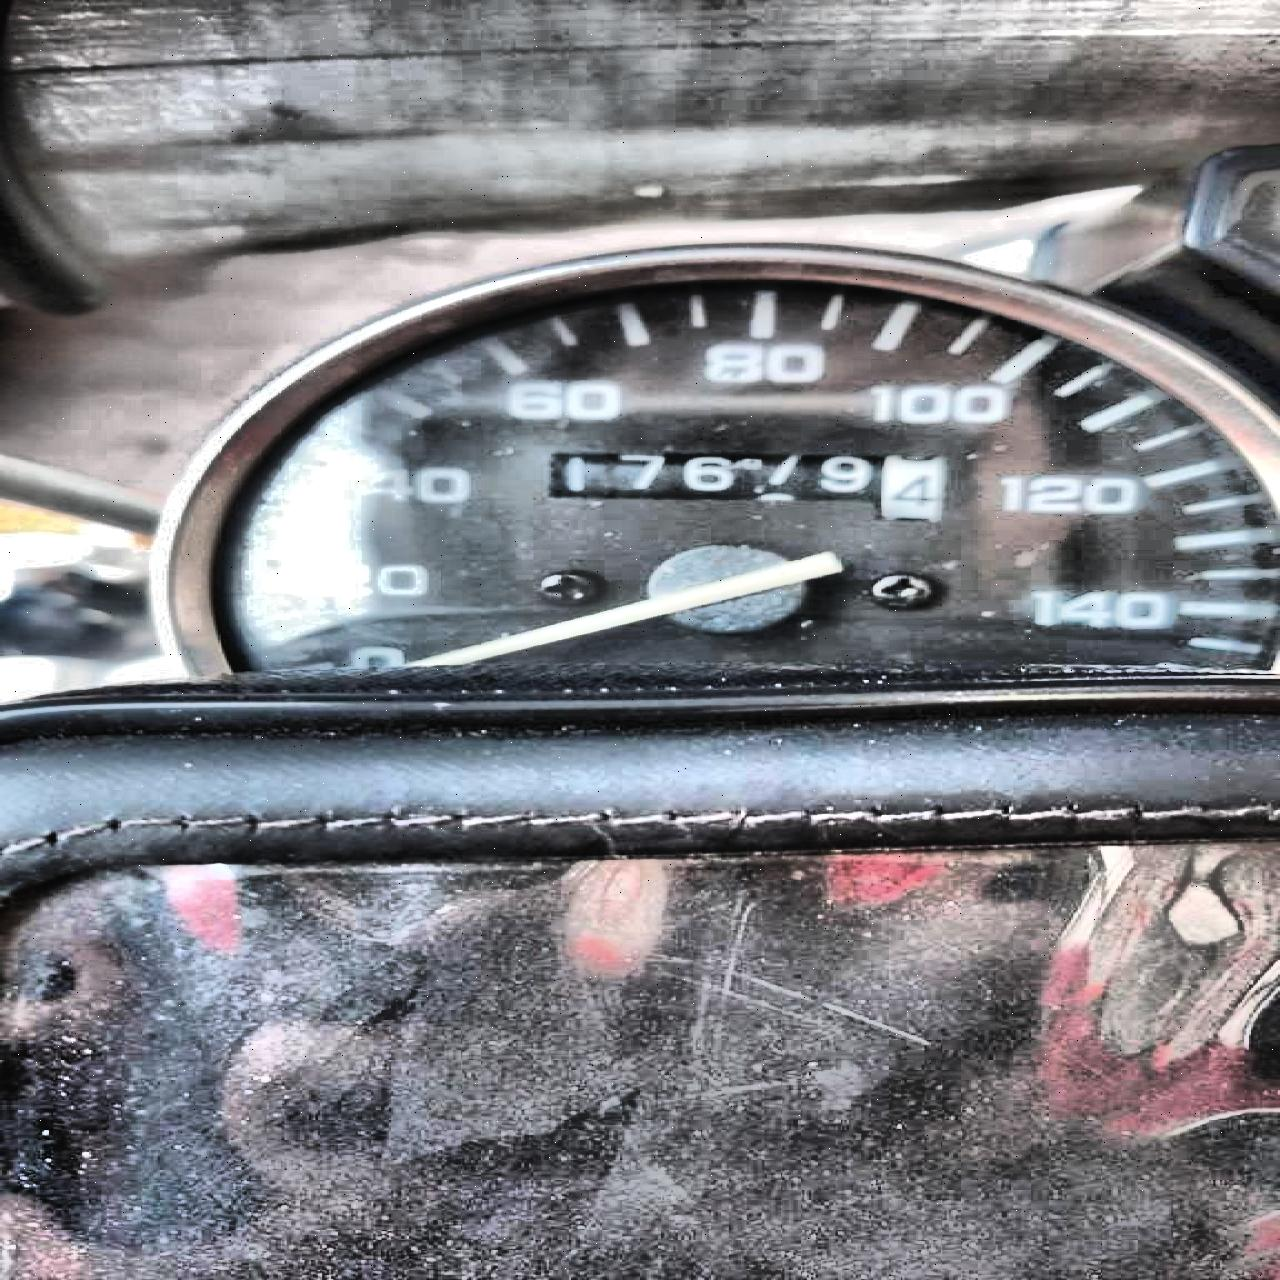1: (551, 454, 595, 491)
4: (881, 465, 940, 506)
6: (675, 452, 735, 491)
7: (747, 452, 806, 491), (611, 451, 665, 489)
9: (813, 454, 871, 492)
odometer: (543, 451, 948, 523)
